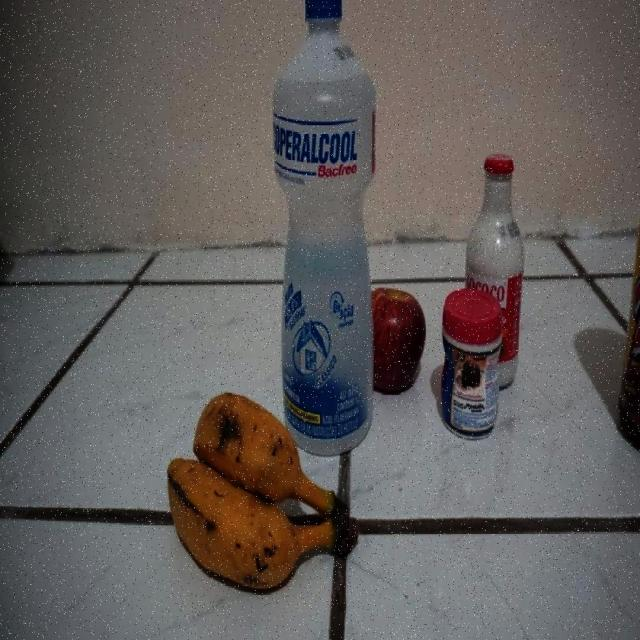AlcoholBottle: (274, 0, 373, 389)
Apple: (374, 282, 427, 396)
Banana: (170, 394, 348, 603)
ChocolatePowder: (616, 132, 640, 463)
CoconutMilk: (464, 150, 525, 289)
Yeast: (441, 292, 499, 438)
